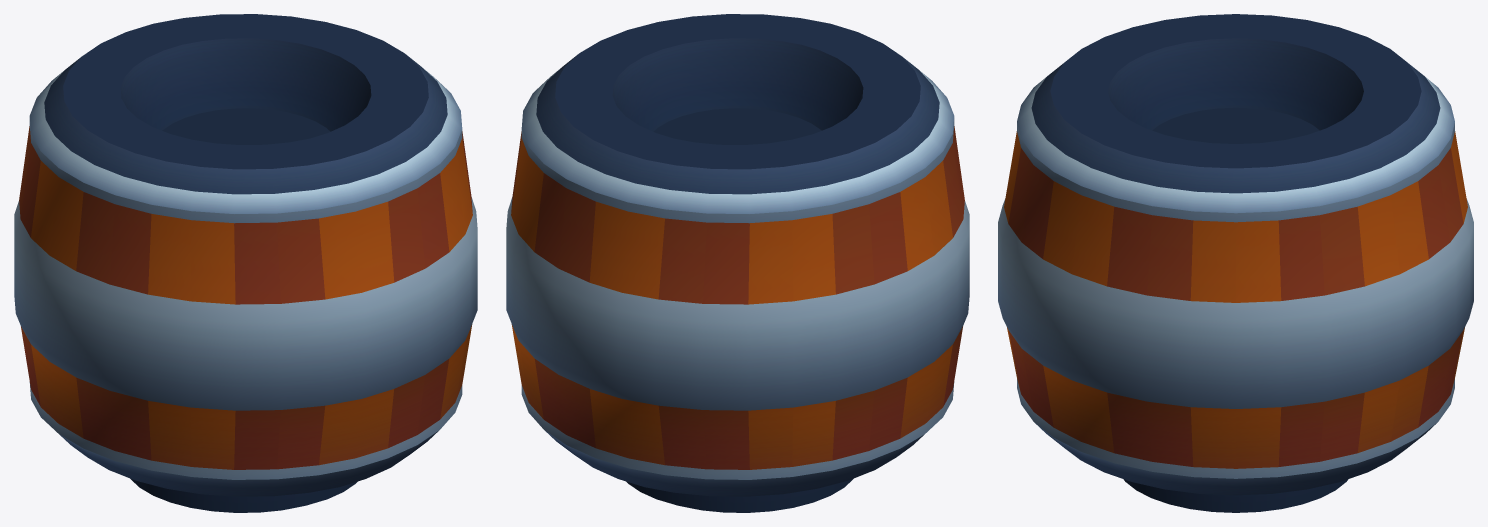
The model's file is EnemyCompartment.fbx.
3 views of the same model, side by side, from view 1: azimuth 30°, elevation 25°; view 2: azimuth 150°, elevation 25°; view 3: azimuth 270°, elevation 25° (orthographic).
Parts seen in each view (by area): view 1: EnemyCompartment; view 2: EnemyCompartment; view 3: EnemyCompartment.
Part boxes in pixels (bbox=[...]): EnemyCompartment: bbox=[14, 14, 477, 512]; EnemyCompartment: bbox=[506, 14, 969, 512]; EnemyCompartment: bbox=[998, 14, 1473, 512].
Size of the model in its own units: 488 by 430 by 502.
